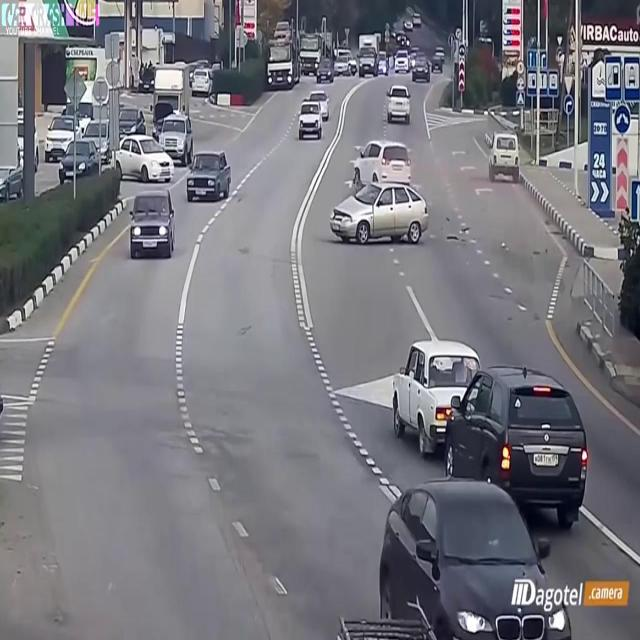accident: (327, 132, 471, 255)
non_accident: (381, 332, 591, 542), (41, 58, 238, 266)
